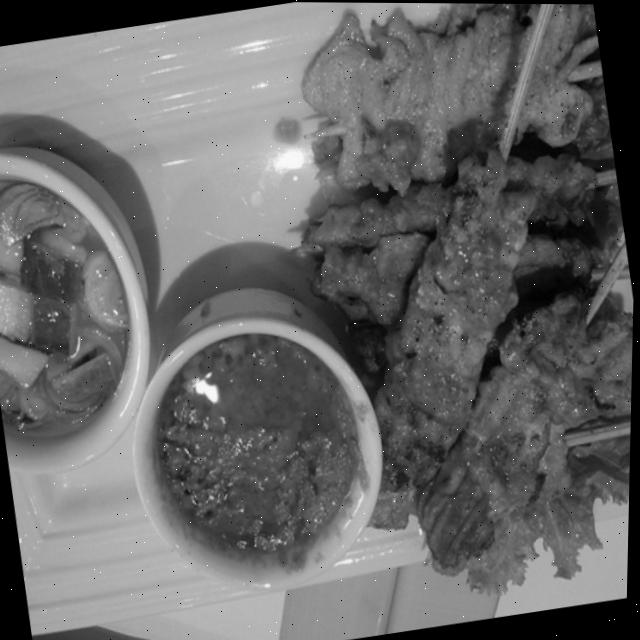牛肉菜式: (253, 2, 640, 613)
